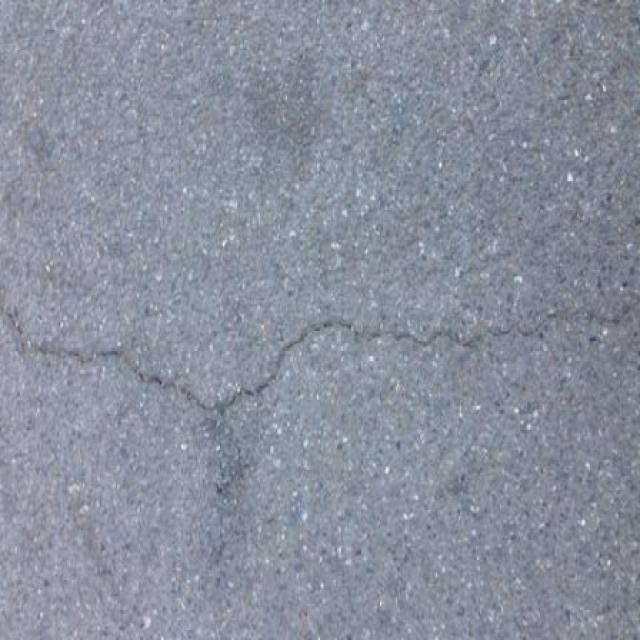Alligator Crack: (0, 299, 564, 414)
